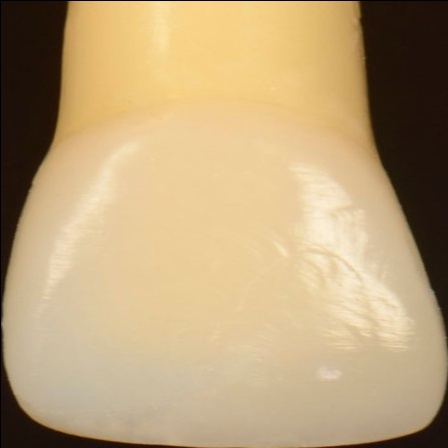coin_1: (380, 157, 400, 177)
coin_2: (419, 252, 439, 273)
coin_3: (51, 143, 71, 163)
coin_4: (31, 182, 51, 202)
